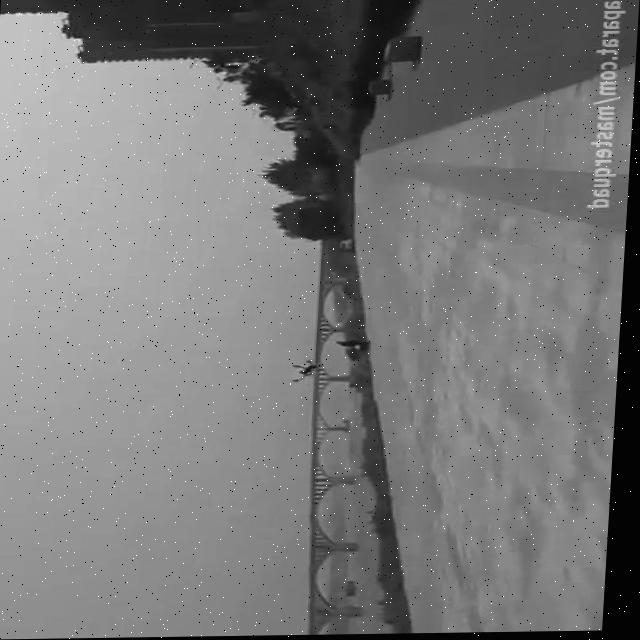drone: (289, 358, 320, 386)
